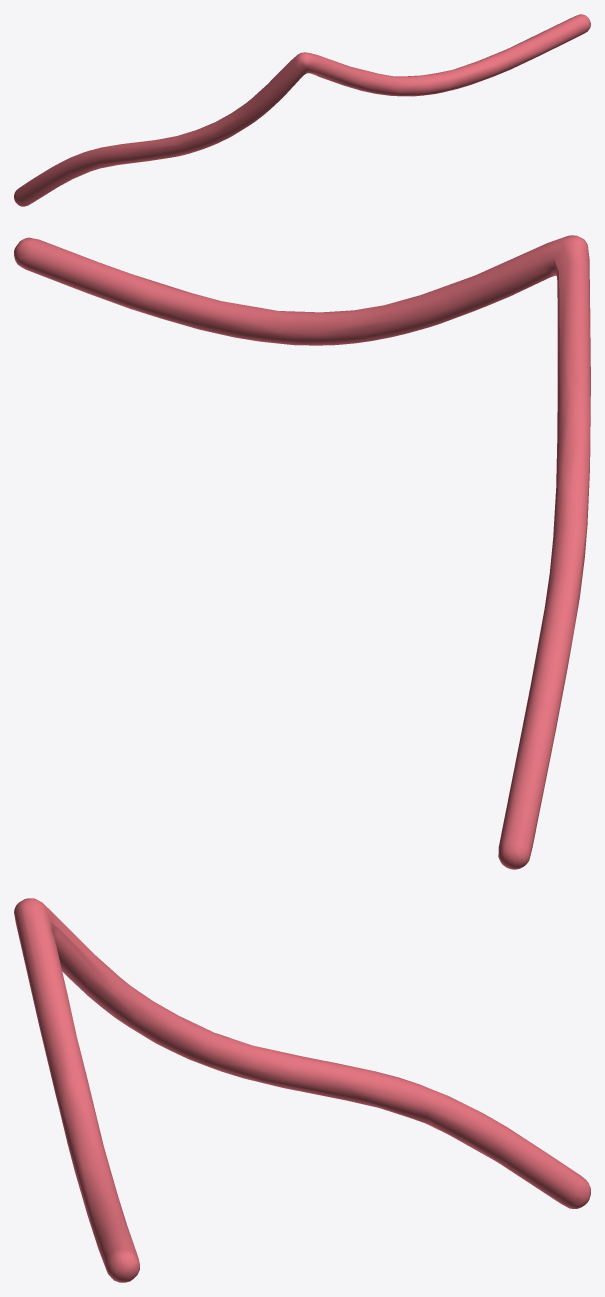
Rendered from fma43943_fj2169.glb.
3 renders of one model, top to bottom at view 1: azimuth 30°, elevation 25°; view 2: azimuth 150°, elevation 25°; view 3: azimuth 270°, elevation 25°, orthographic. The views are drawn at different scales.
Visible parts, largest first — view 1: FMA43943_FJ2169; view 2: FMA43943_FJ2169; view 3: FMA43943_FJ2169.
Boxes of the visible parts, left/top/right/bottom form: FMA43943_FJ2169: left=14, top=14, right=590, bottom=206; FMA43943_FJ2169: left=14, top=235, right=590, bottom=869; FMA43943_FJ2169: left=14, top=898, right=590, bottom=1282.
Bounding box in the file's own units: 0.0448 × 0.0231 × 0.0294.
